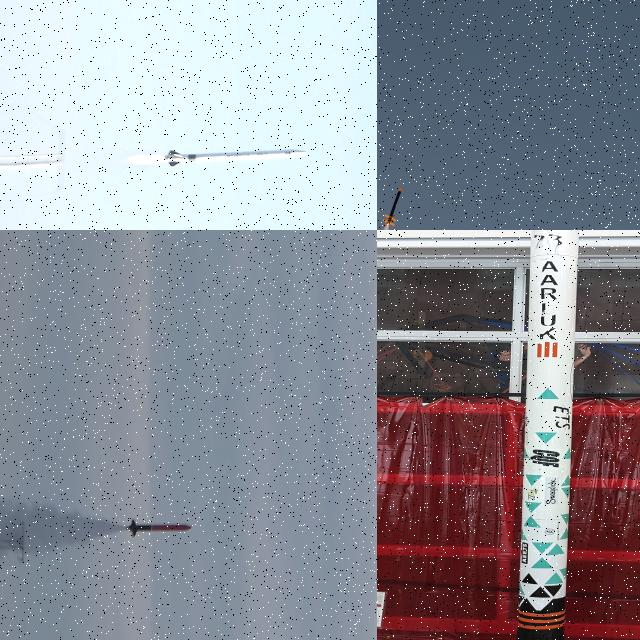Rocket: (518, 230, 579, 640), (166, 149, 306, 168), (126, 518, 193, 538), (382, 186, 403, 227)
